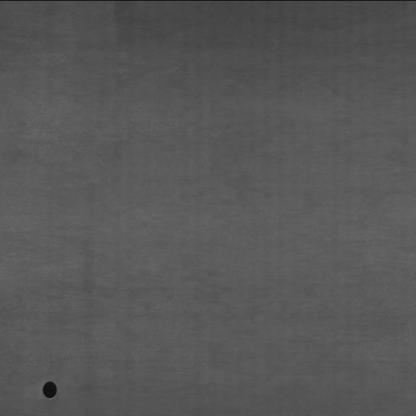punching_hole: (40, 378, 58, 400)
